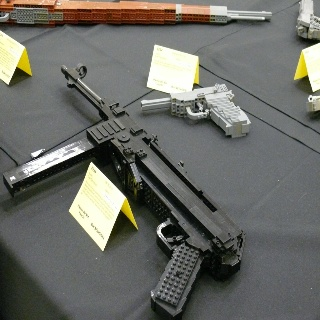rifle: (3, 62, 253, 320)
